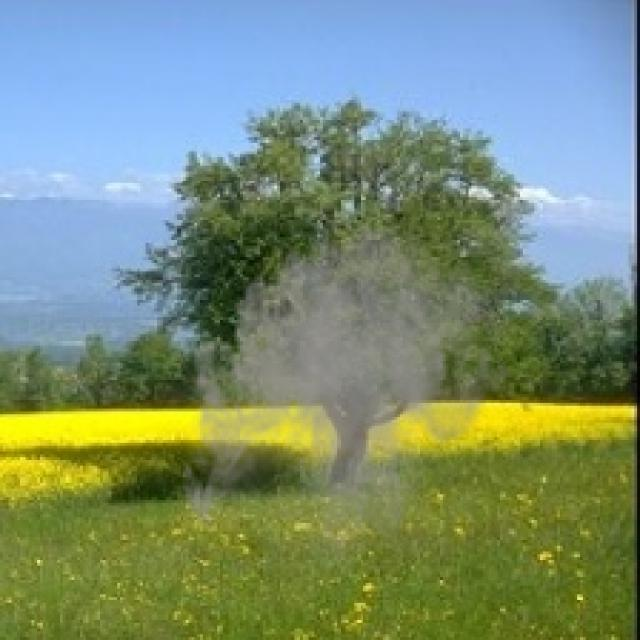Smoke: (172, 197, 514, 592)
